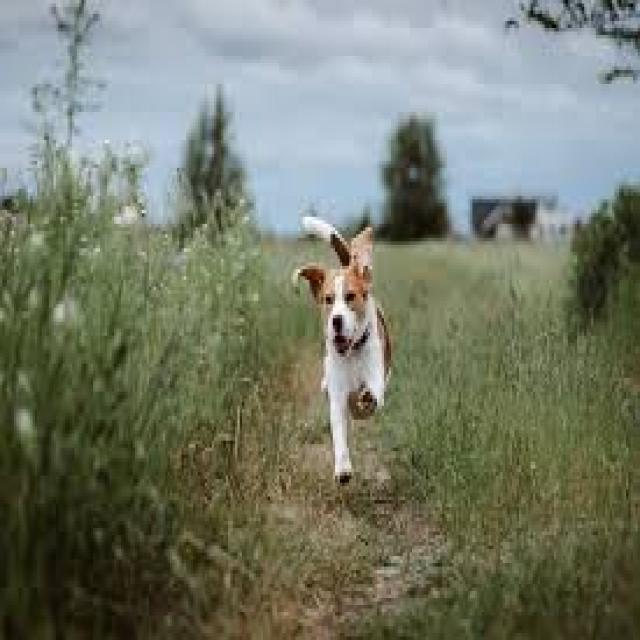Dog: (286, 198, 393, 492)
